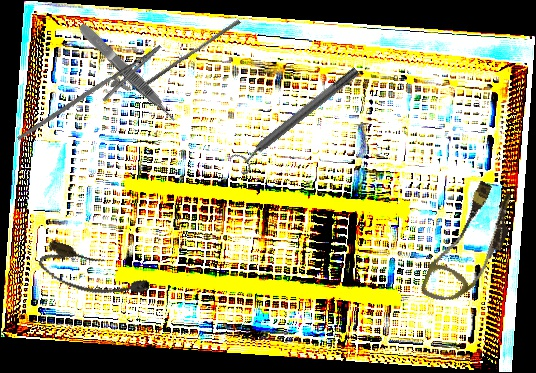Cannula: (418, 174, 523, 316), (34, 237, 154, 313)
Fixation Ring: (228, 61, 366, 177)
Needle Holder: (16, 28, 171, 167)
Pusher: (136, 15, 241, 96)
Tissue Forceps: (76, 20, 179, 126)
